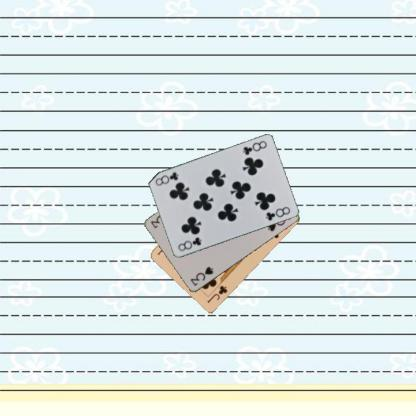3s: (188, 264, 214, 287)
8c: (240, 138, 268, 157), (176, 234, 202, 252)
Jc: (204, 283, 229, 305)
